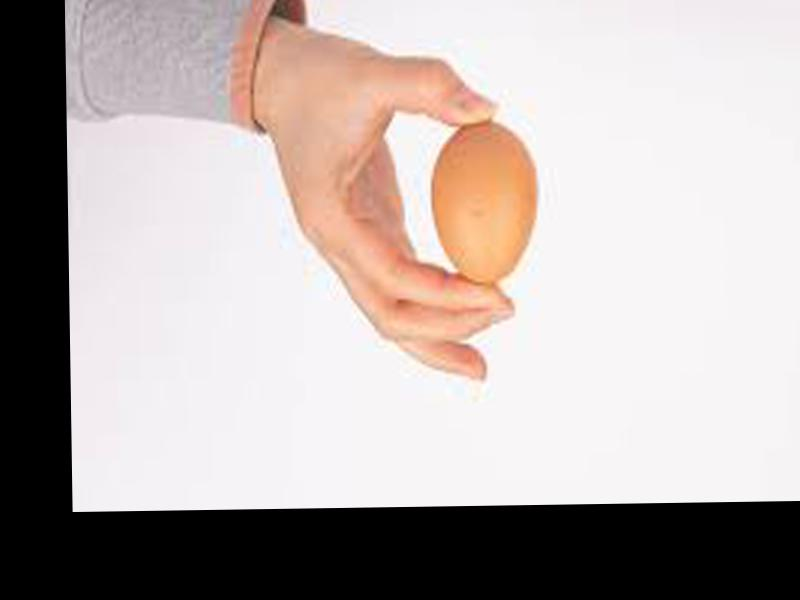Eggs: (433, 124, 538, 288)
